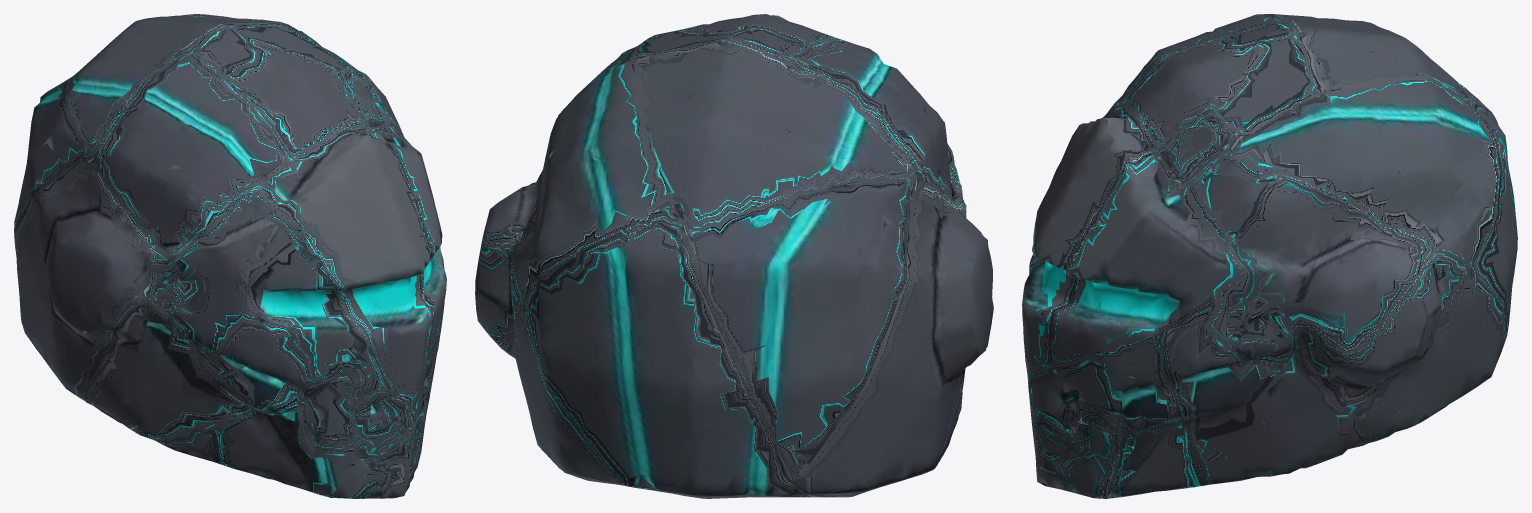
Rendered from vanguard_helm.glb.
3 views of the same model, side by side, from view 1: azimuth 30°, elevation 25°; view 2: azimuth 150°, elevation 25°; view 3: azimuth 270°, elevation 25° (orthographic). The views are drawn at different scales.
Size of the model in its own units: 0.3324 by 0.3503 by 0.3682.
Materials: 1 (1 with a texture image).
